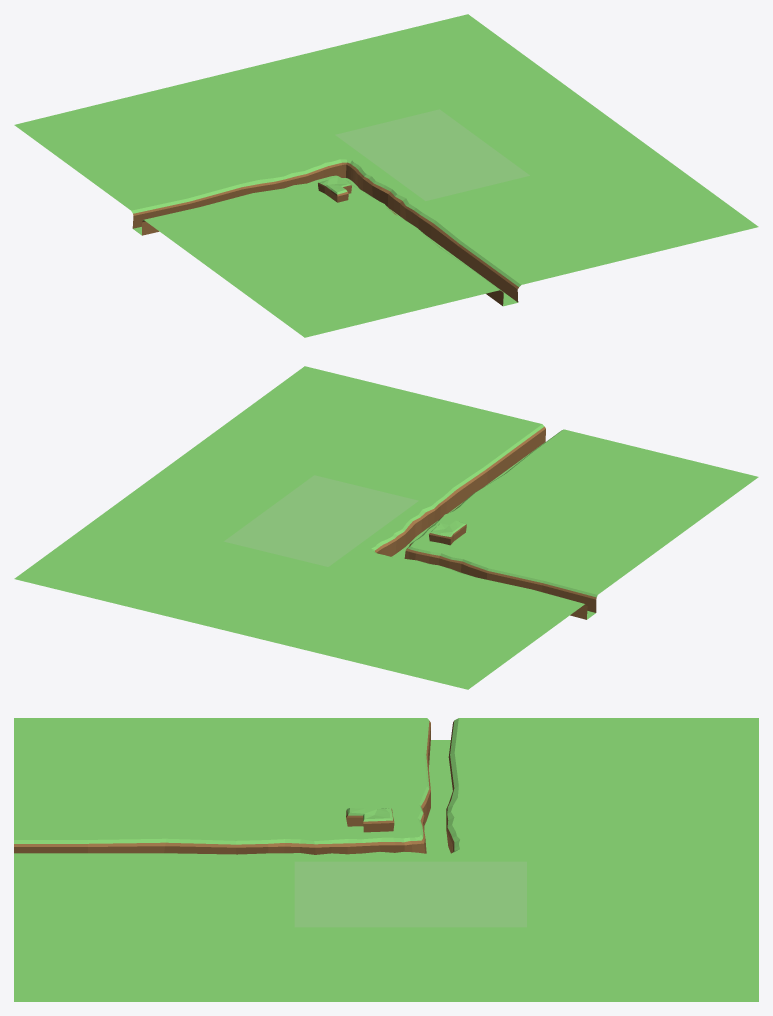
Rendered from terrain_test.fbx.
The picture shows the model from 3 angles, top to bottom: view 1: azimuth 30°, elevation 25°; view 2: azimuth 150°, elevation 25°; view 3: azimuth 270°, elevation 25°; orthographic projection. The views are drawn at different scales.
Visible parts, largest first — view 1: terrain, Checkerboard; view 2: terrain, Checkerboard; view 3: terrain, Checkerboard.
Part boxes in pixels (x1,y1,x2,y2): terrain: (14,14,758,337); Checkerboard: (336,110,529,200); terrain: (14,366,758,689); Checkerboard: (225,476,417,566); terrain: (14,718,758,1001); Checkerboard: (295,862,526,926).
Size of the model in its own units: 8672 by 497 by 9619.
